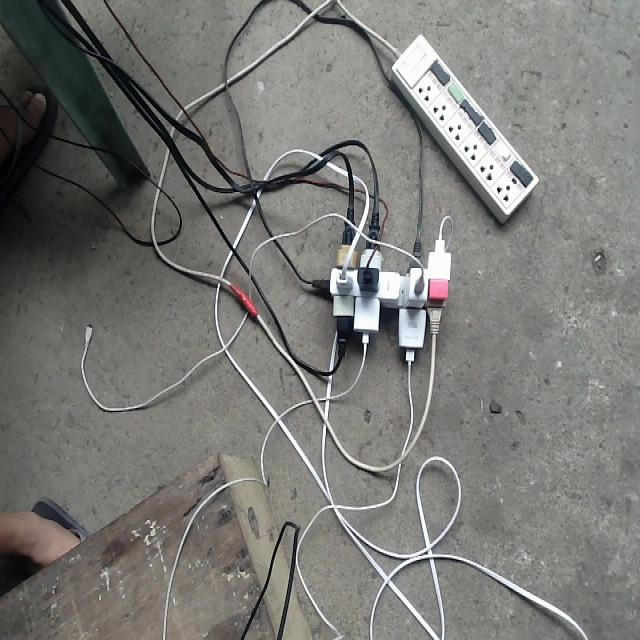-: (310, 203, 452, 361)
